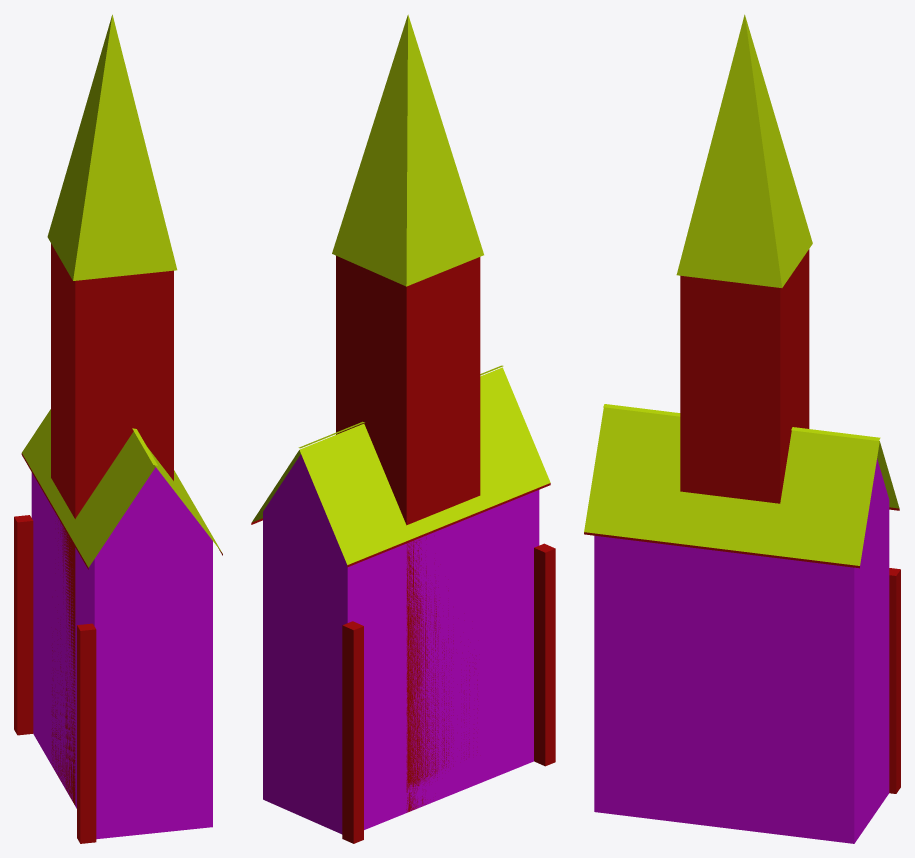
File: eglise_1.glb
The picture shows the model from 3 angles, left to right: view 1: azimuth 30°, elevation 25°; view 2: azimuth 150°, elevation 25°; view 3: azimuth 270°, elevation 25°; orthographic projection. The views are drawn at different scales.
Visible parts, largest first — view 1: eglise_1; view 2: eglise_1; view 3: eglise_1.
Part boxes in pixels (bbox=[...]): eglise_1: bbox=[14, 14, 222, 843]; eglise_1: bbox=[251, 14, 555, 843]; eglise_1: bbox=[584, 14, 900, 843].
Size of the model in its own units: 10.75 by 41.55 by 15.21.
